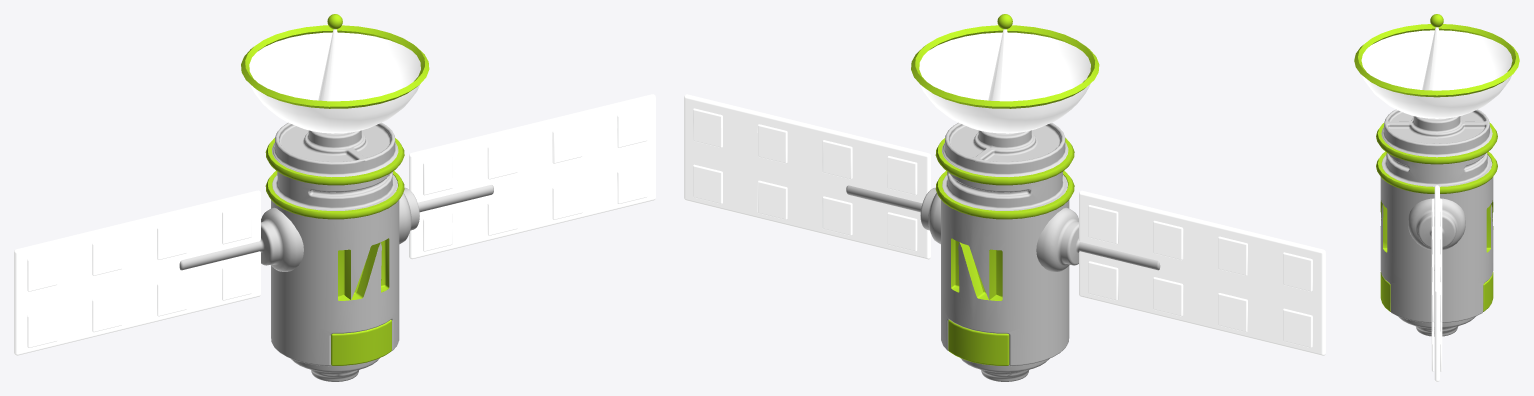
File: NAKA-Satelite-Only_optimized.glb
3 renders of one model, left to right at view 1: azimuth 30°, elevation 25°; view 2: azimuth 150°, elevation 25°; view 3: azimuth 270°, elevation 25°, orthographic. The views are drawn at different scales.
Visible parts, largest first — view 1: Sphere.005; view 2: Sphere.005; view 3: Sphere.005.
Boxes of the visible parts, box(x1,y1,x2,y2) form: Sphere.005: box(14, 14, 655, 381); Sphere.005: box(684, 14, 1325, 381); Sphere.005: box(1354, 14, 1519, 381).
Size of the model in its own units: 1.43 by 0.7615 by 0.364.
